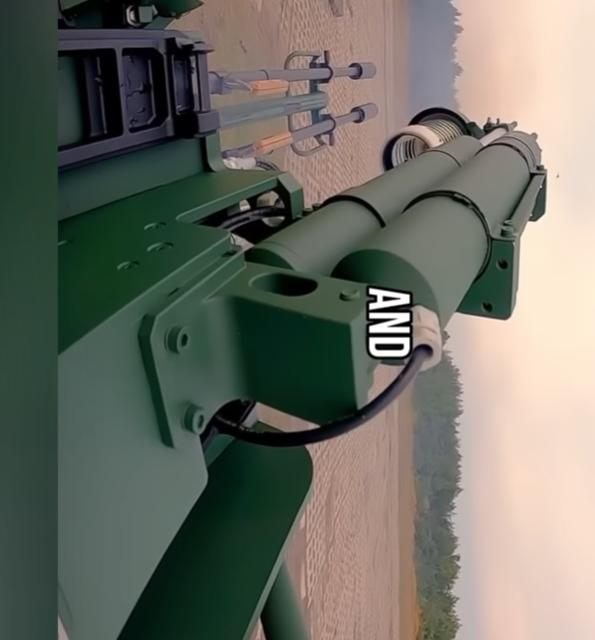MIL_SPG: (2, 0, 545, 640)
